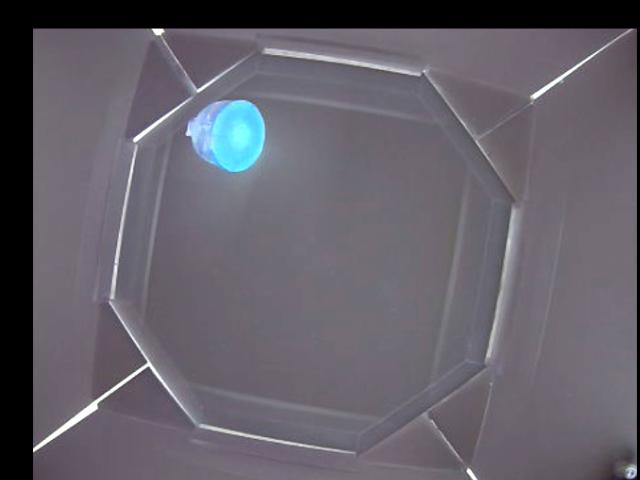Carrot: (187, 100, 265, 171)
